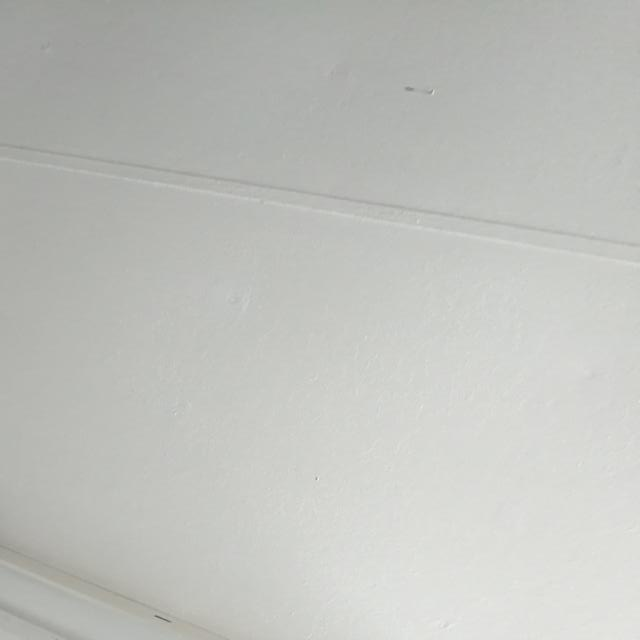fluorescent tube: (0, 377, 520, 640)
